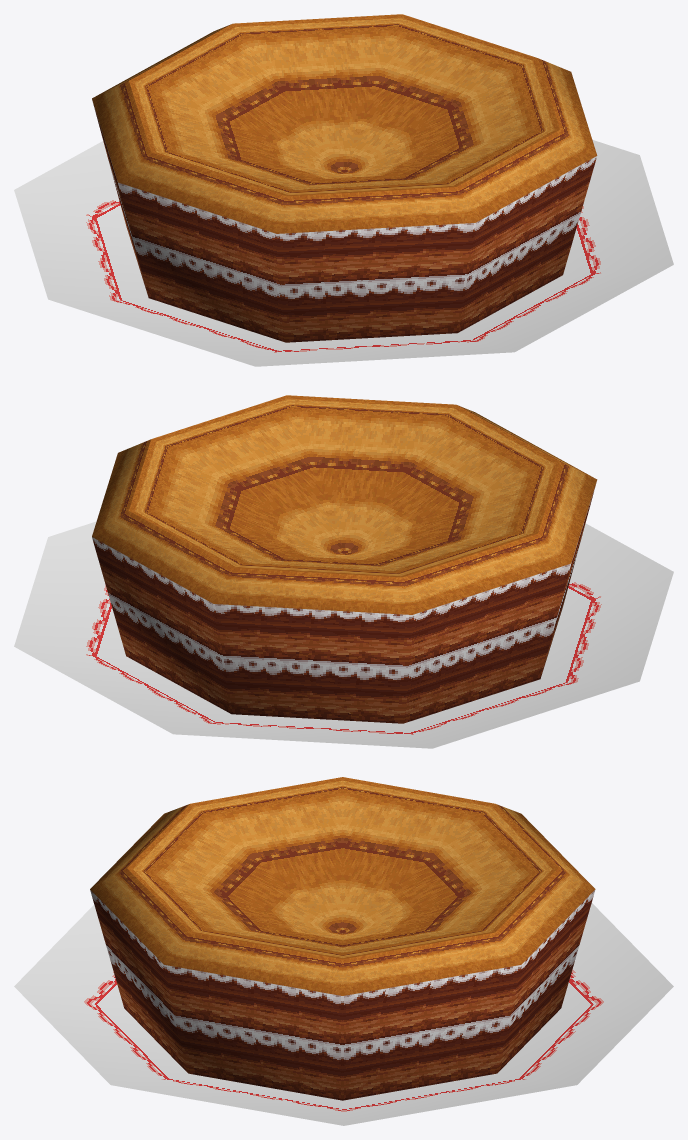
The model's file is 5498u_pie00_d.gltf.
The picture shows the model from 3 angles, top to bottom: view 1: azimuth 30°, elevation 25°; view 2: azimuth 150°, elevation 25°; view 3: azimuth 270°, elevation 25°; orthographic projection. The views are drawn at different scales.
Visible parts, largest first — view 1: 5498u_pie00_d; view 2: 5498u_pie00_d; view 3: 5498u_pie00_d.
Part boxes in pixels (x1,y1,x2,y2): 5498u_pie00_d: (14,14,673,366); 5498u_pie00_d: (14,395,673,748); 5498u_pie00_d: (14,777,673,1125).
Size of the model in its own units: 0.9766 by 0.313 by 0.9763.
Materials: 3 (3 with a texture image).
